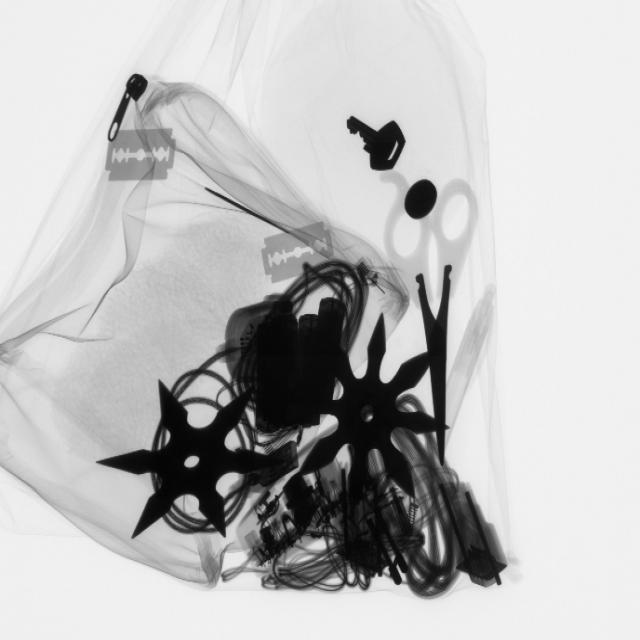BLADE: (98, 118, 184, 194), (258, 216, 341, 288)
SHURIKEN: (296, 310, 442, 515), (108, 372, 279, 543)
